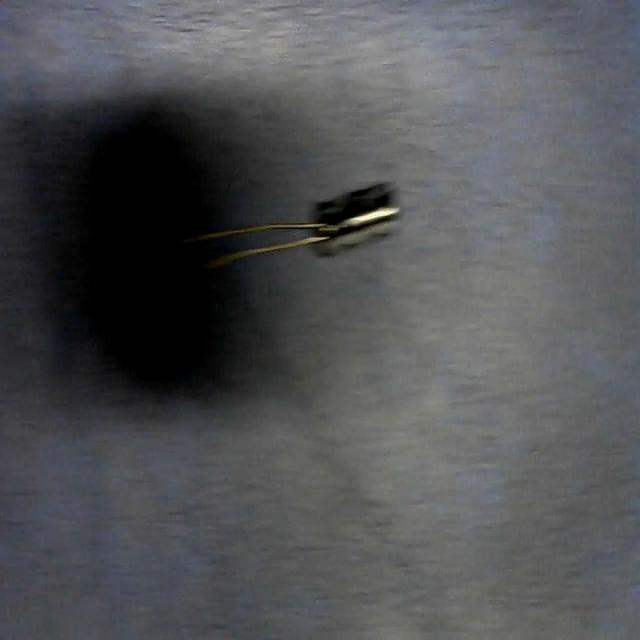capacitor: (210, 188, 395, 265)
